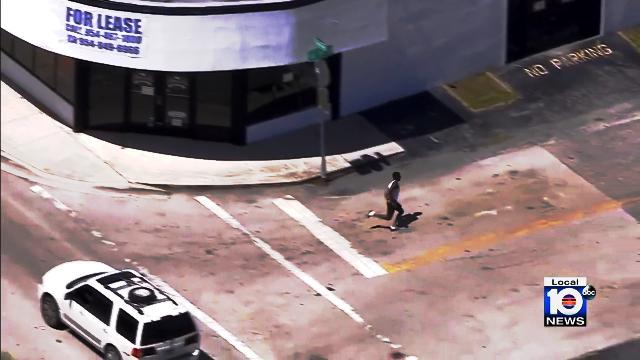berlari: (364, 168, 412, 232)
